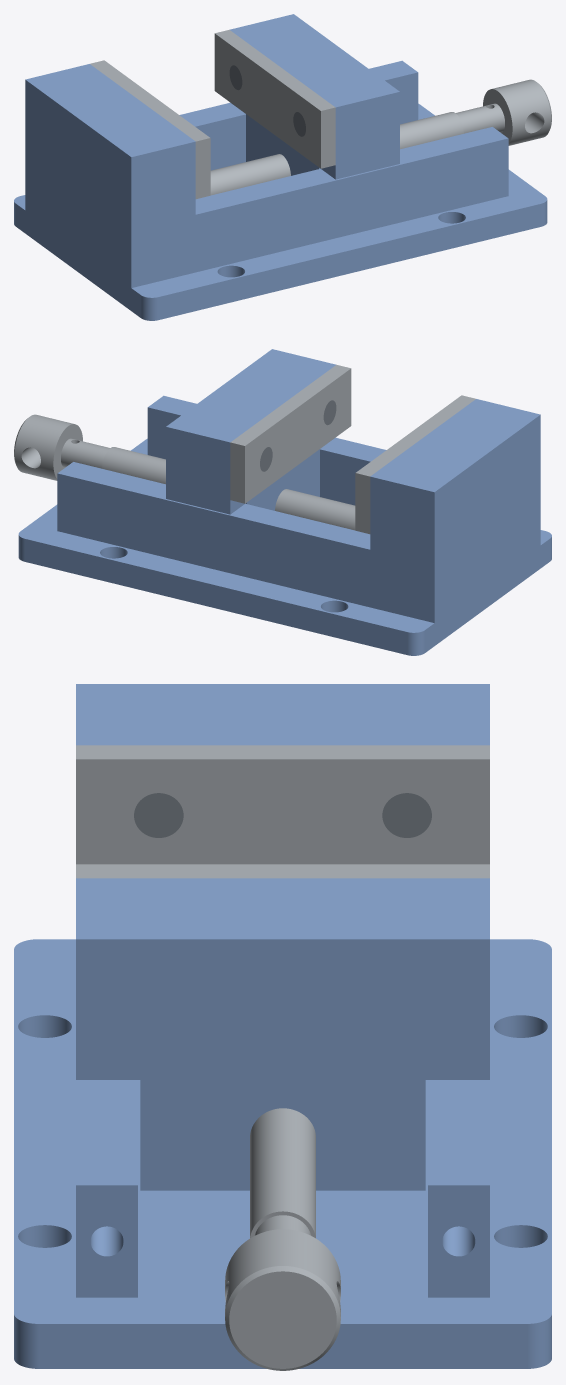
File: step_23.glb
The picture shows the model from 3 angles, top to bottom: view 1: azimuth 30°, elevation 25°; view 2: azimuth 150°, elevation 25°; view 3: azimuth 270°, elevation 25°; orthographic projection. The views are drawn at different scales.
Visible parts, largest first — view 1: part__body, part__moving jaw, part__moving jaw plate, part__lead screw, part__fixed jaw plate; view 2: part__body, part__moving jaw, part__moving jaw plate, part__lead screw, part__fixed jaw plate; view 3: part__body, part__moving jaw, part__fixed jaw plate, part__lead screw, part__moving jaw plate, part__jaw plate screw 1, part__jaw plate screw 2.
Boxes of the visible parts, x1=… form: part__body: x1=14, y1=60, x2=547, y2=320; part__moving jaw: x1=230, y1=14, x2=399, y2=179; part__moving jaw plate: x1=214, y1=29, x2=335, y2=168; part__lead screw: x1=210, y1=79, x2=551, y2=195; part__fixed jaw plate: x1=90, y1=60, x2=210, y2=199; part__body: x1=18, y1=395, x2=551, y2=655; part__moving jaw: x1=166, y1=349, x2=335, y2=514; part__moving jaw plate: x1=230, y1=364, x2=351, y2=503; part__lead screw: x1=14, y1=414, x2=355, y2=530; part__fixed jaw plate: x1=355, y1=395, x2=475, y2=534; part__body: x1=14, y1=684, x2=551, y2=1368; part__moving jaw: x1=76, y1=878, x2=489, y2=1190; part__fixed jaw plate: x1=76, y1=745, x2=489, y2=864; part__lead screw: x1=225, y1=1108, x2=340, y2=1370; part__moving jaw plate: x1=76, y1=864, x2=489, y2=878; part__jaw plate screw 1: x1=382, y1=793, x2=431, y2=837; part__jaw plate screw 2: x1=134, y1=793, x2=183, y2=837.
Size of the model in its own units: 250 by 80 by 130.
